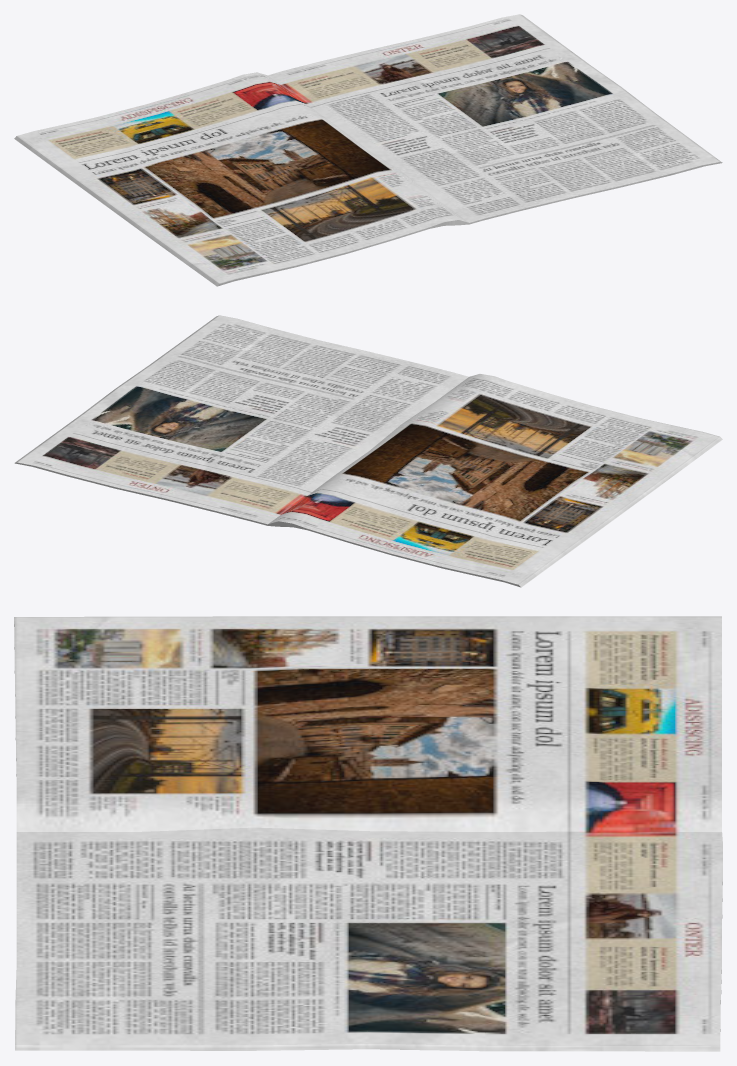
Rendered from openedNewspaper.obj.
3 views of the same model, one above another, from view 1: azimuth 30°, elevation 25°; view 2: azimuth 150°, elevation 25°; view 3: azimuth 270°, elevation 25° (orthographic). The views are drawn at different scales.
Parts seen in each view (by area): view 1: Plane; view 2: Plane; view 3: Plane.
Boxes of the visible parts, bbox=[...] form: Plane: bbox=[14, 14, 722, 286]; Plane: bbox=[14, 315, 722, 587]; Plane: bbox=[14, 616, 722, 1051].
Bounding box in the file's own units: 58.25 × 0.924 × 40.23.
